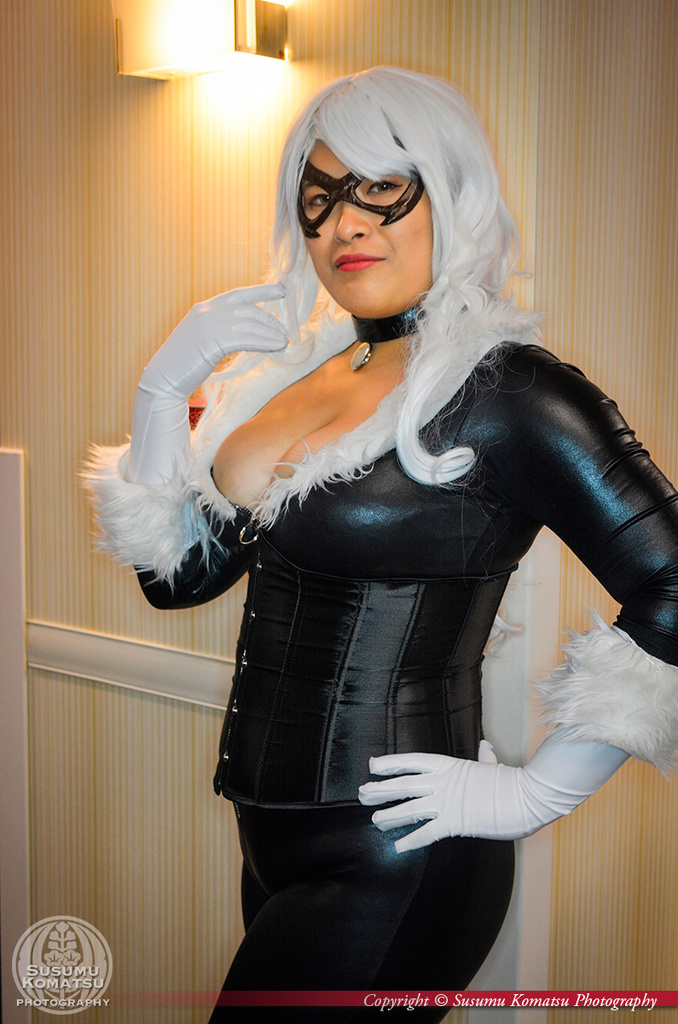face: (301, 114, 429, 320)
